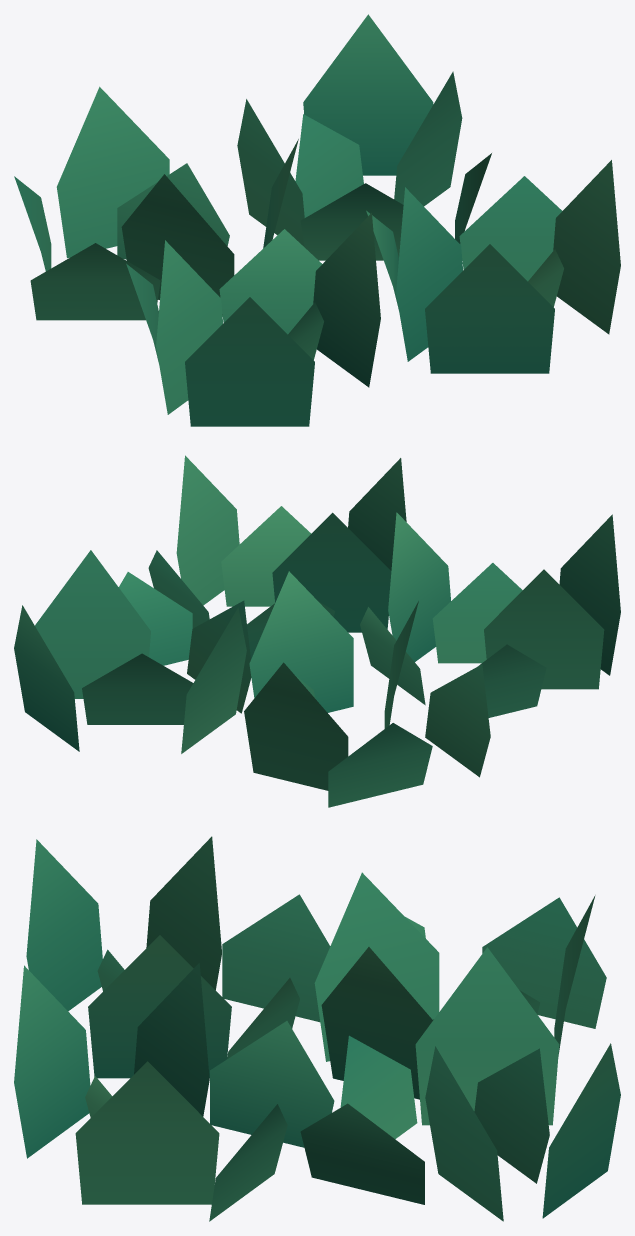
The model's file is grass-large.glb.
3 views of the same model, one above another, from view 1: azimuth 30°, elevation 25°; view 2: azimuth 150°, elevation 25°; view 3: azimuth 270°, elevation 25° (orthographic). The views are drawn at different scales.
Visible parts, largest first — view 1: grass-large; view 2: grass-large; view 3: grass-large.
Boxes of the visible parts, box(x1,y1,x2,y2) form: grass-large: box(14, 14, 620, 426); grass-large: box(14, 455, 620, 807); grass-large: box(14, 836, 620, 1221).
Size of the model in its own units: 0.4759 by 0.1425 by 0.4873.
